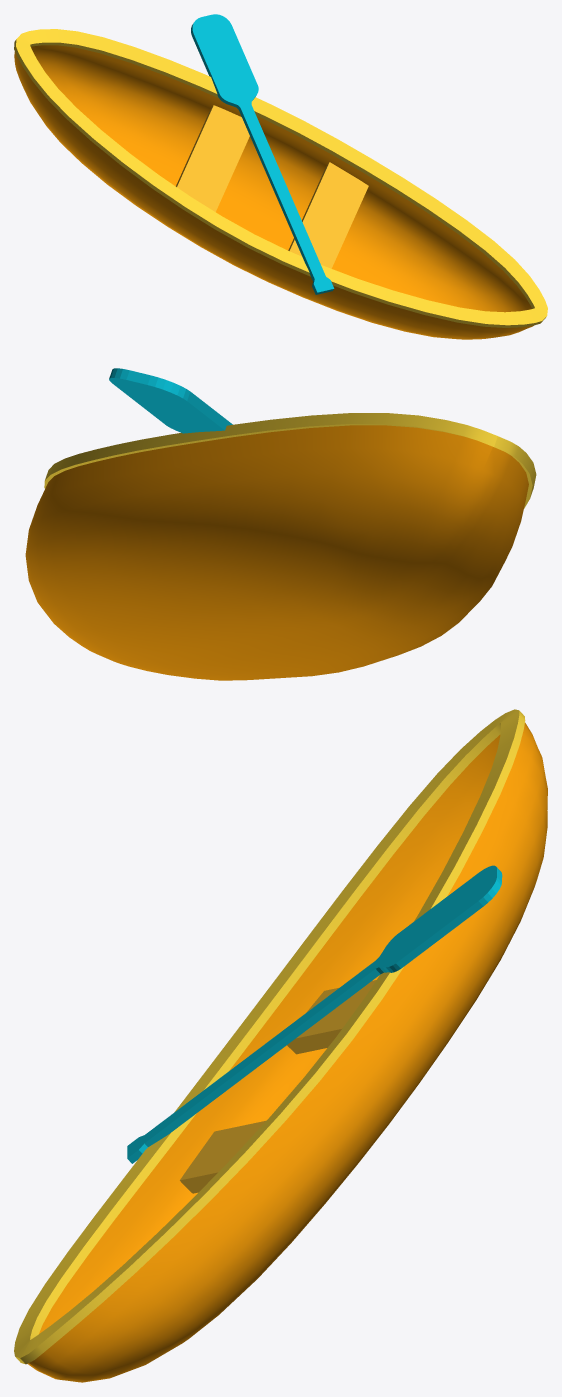
The model's file is canoe.gltf.
3 views of the same model, one above another, from view 1: azimuth 30°, elevation 25°; view 2: azimuth 150°, elevation 25°; view 3: azimuth 270°, elevation 25° (orthographic). The views are drawn at different scales.
Parts seen in each view (by area): view 1: Cube.762, Cube.763; view 2: Cube.762, Cube.763; view 3: Cube.762, Cube.763.
Part boxes in pixels (left/top/right/bottom): Cube.762: left=14, top=29, right=547, bottom=339; Cube.763: left=191, top=14, right=334, bottom=294; Cube.762: left=25, top=413, right=536, bottom=680; Cube.763: left=109, top=368, right=232, bottom=433; Cube.762: left=14, top=709, right=547, bottom=1382; Cube.763: left=127, top=865, right=502, bottom=1163.
Size of the model in its own units: 2.3 by 1.63 by 1.86.
Materials: 1 (1 with a texture image).
